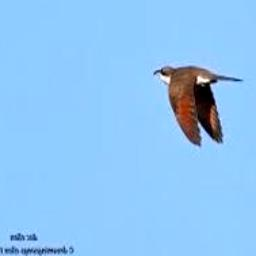Cuckoo: (154, 64, 247, 144)
